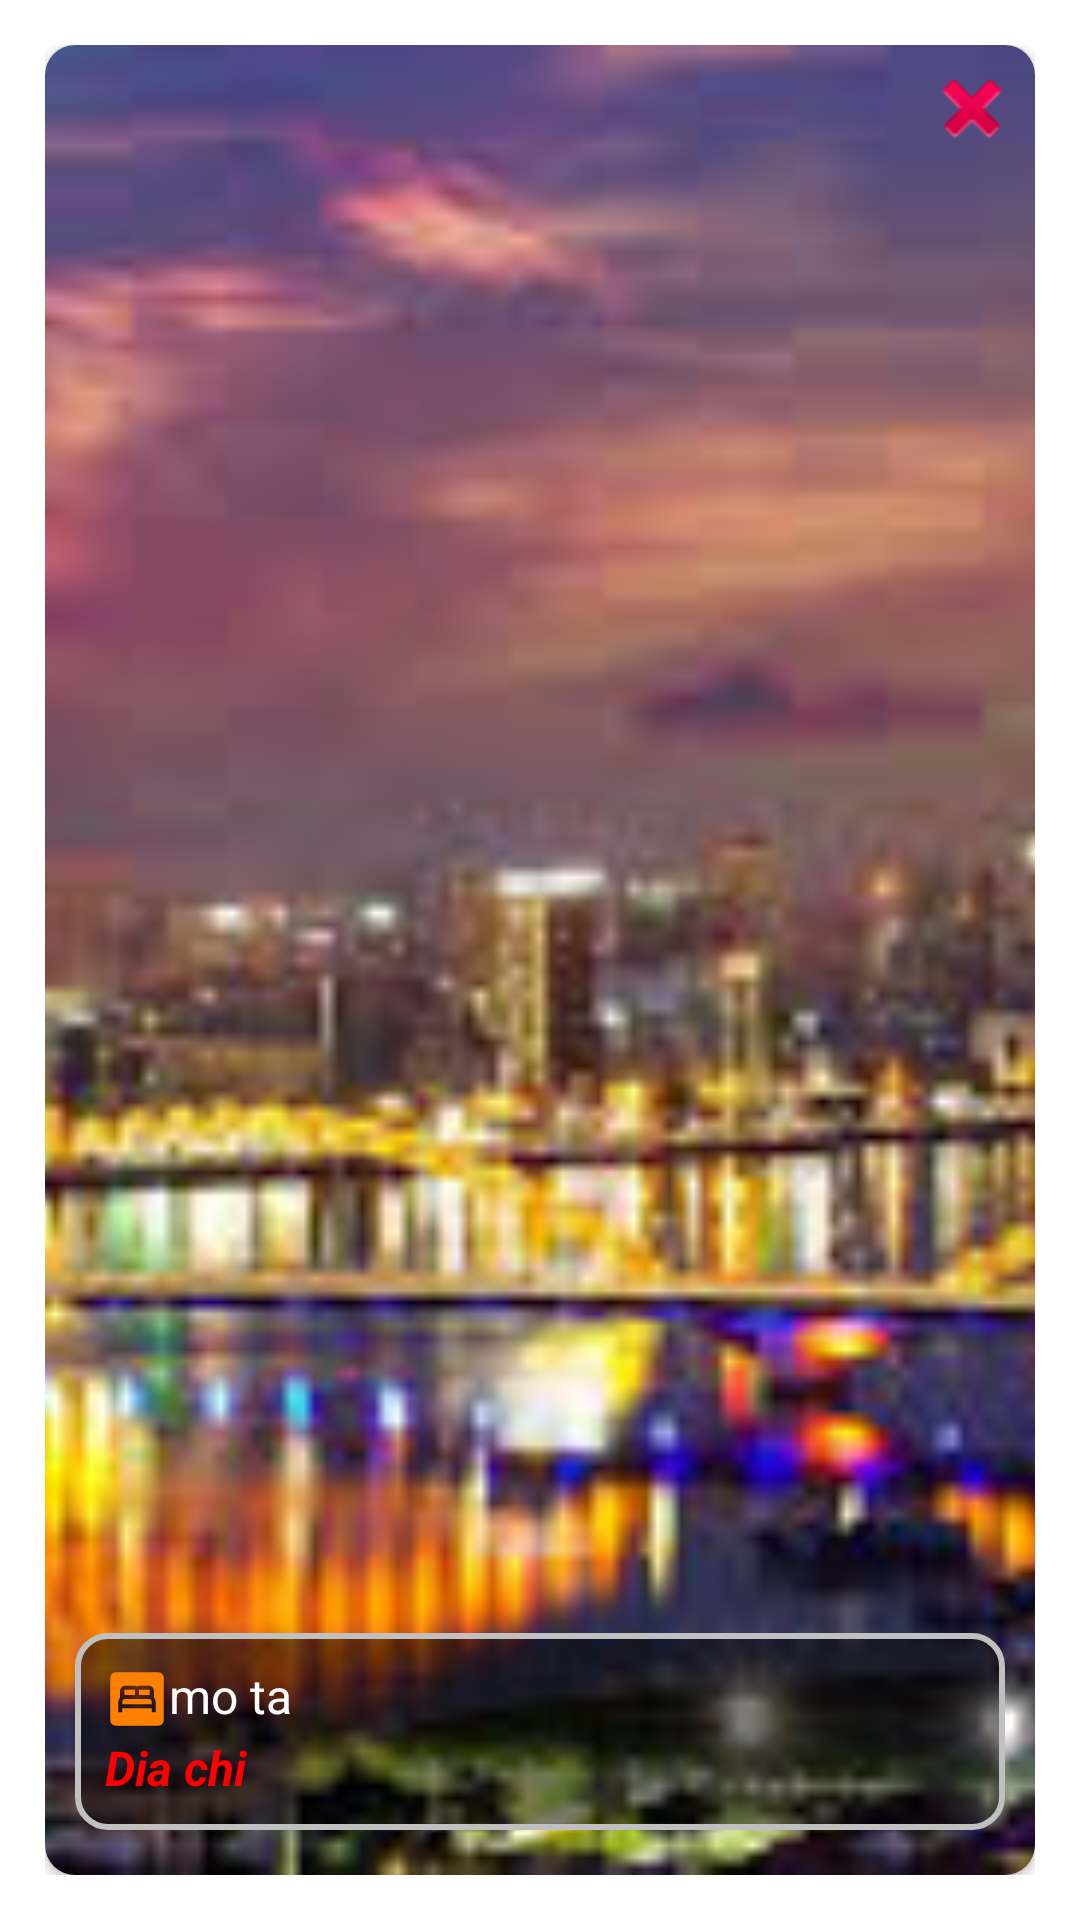

Icons on this 1080px×1920px Android screen, each with the point to tap as (x,y):
bedroom parent: (137,1699)
delete: (972,108)
